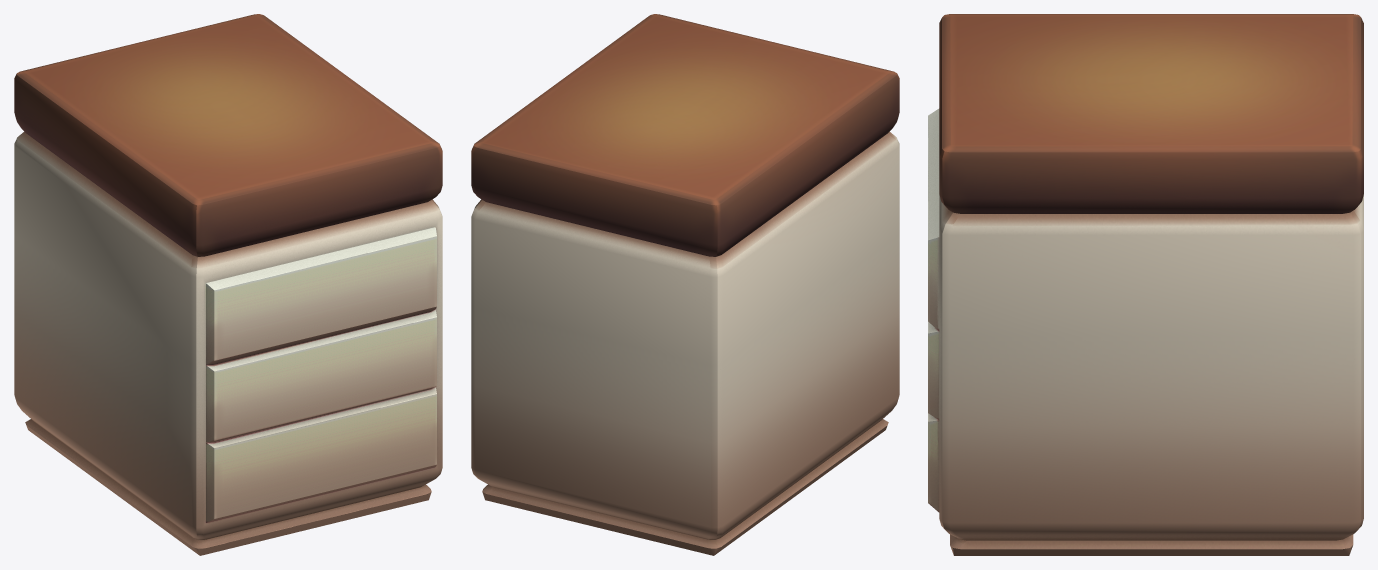
File: counter 01.fbx
The picture shows the model from 3 angles, left to right: view 1: azimuth 30°, elevation 25°; view 2: azimuth 150°, elevation 25°; view 3: azimuth 270°, elevation 25°; orthographic projection. The views are drawn at different scales.
Parts seen in each view (by area): view 1: counter 01; view 2: counter 01; view 3: counter 01.
Boxes of the visible parts, x1=… form: counter 01: x1=14, y1=14, x2=442, y2=555; counter 01: x1=471, y1=14, x2=899, y2=555; counter 01: x1=928, y1=14, x2=1363, y2=555.
Size of the model in its own units: 1005 by 1370 by 1316.
